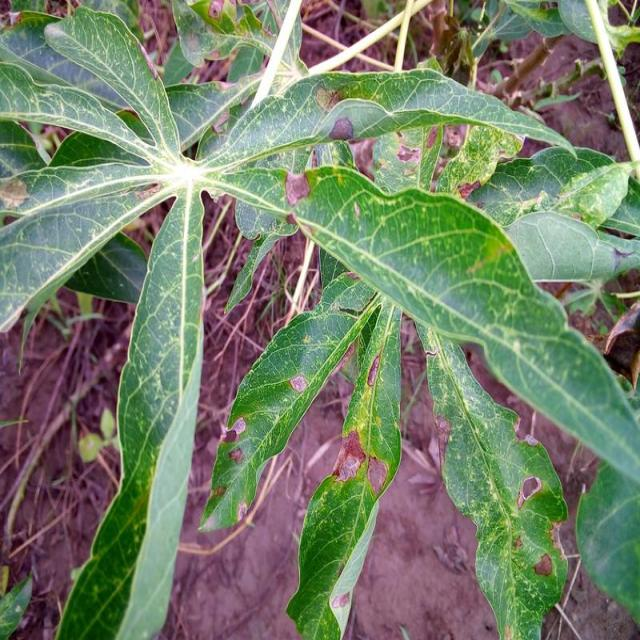cassava leaf: (0, 1, 638, 637), (288, 162, 638, 485)
